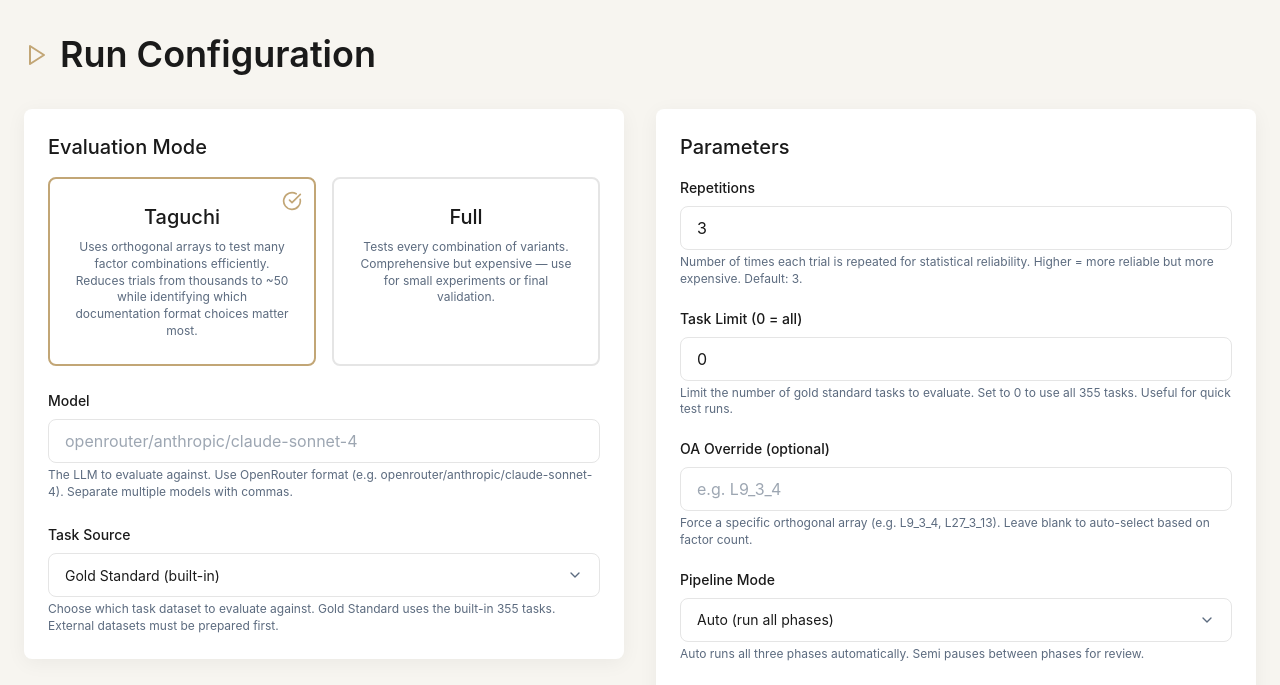
Test: RunConfig › should hide pipeline options when Full mode is selected
Note: Click Full mode radio
Step 1. Click the radio button labelled "Full" → {"x": 466, "y": 271}, box top-left (332, 177), bottom-right (600, 366)
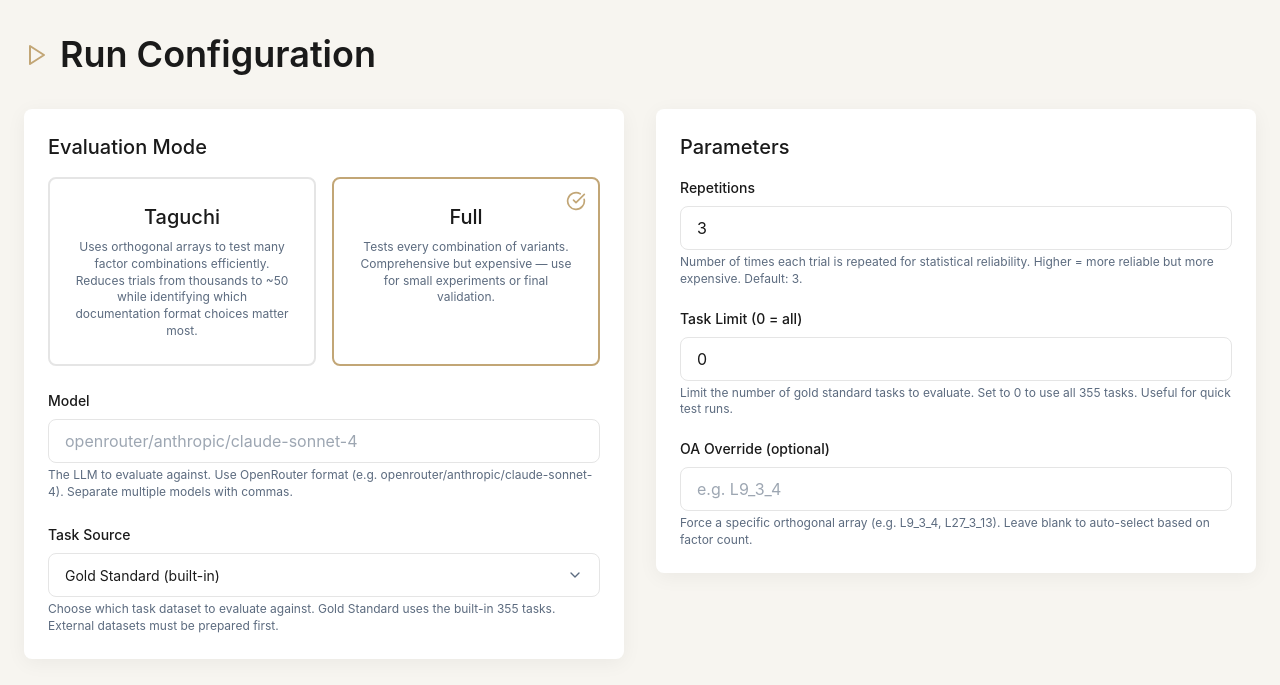
Check: the label labelled "Pipeline Mode" is gone
